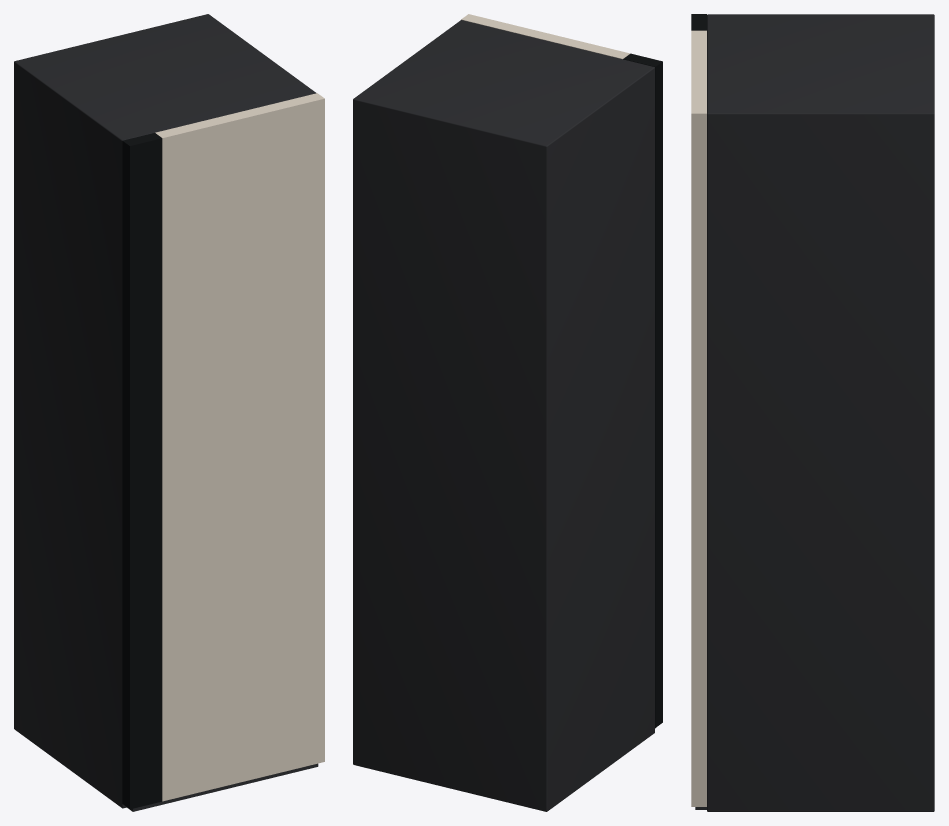
Rendered from SC5MBR80S.glb.
3 views of the same model, side by side, from view 1: azimuth 30°, elevation 25°; view 2: azimuth 150°, elevation 25°; view 3: azimuth 270°, elevation 25° (orthographic). The views are drawn at different scales.
Visible parts, largest first — view 1: door_0_panel, body, display_control_strip, vent_plinth; view 2: body, display_control_strip, door_0_panel; view 3: body, door_0_panel.
Boxes of the visible parts, x1=… form: door_0_panel: x1=155, y1=93, x2=324, y2=801; body: x1=14, y1=14, x2=316, y2=808; display_control_strip: x1=122, y1=133, x2=162, y2=809; vent_plinth: x1=128, y1=763, x2=318, y2=811; body: x1=353, y1=20, x2=654, y2=811; display_control_strip: x1=623, y1=53, x2=662, y2=727; door_0_panel: x1=461, y1=14, x2=629, y2=59; body: x1=707, y1=14, x2=934, y2=811; door_0_panel: x1=691, y1=30, x2=706, y2=806.
Size of the model in its own units: 0.6 by 1.97 by 0.62.
